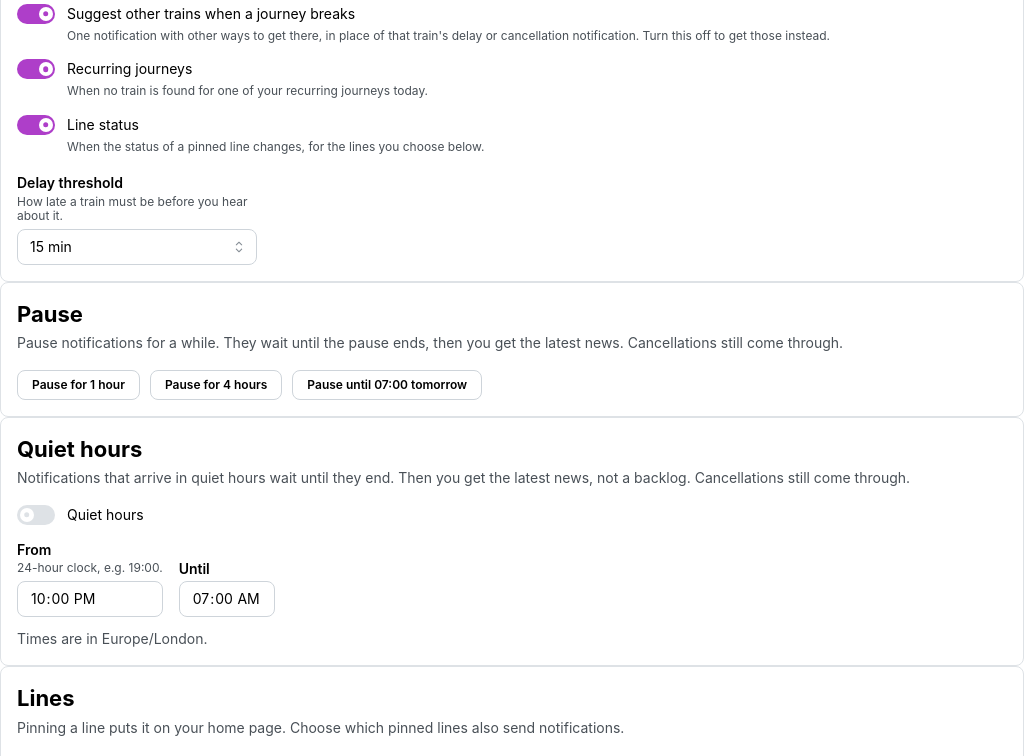
Test: NotificationSettings › pauses notifications and resumes them
(page scrolled)
Click the button "Pause for 1 hour" at coordinates (78, 385), box [17,370,140,400]
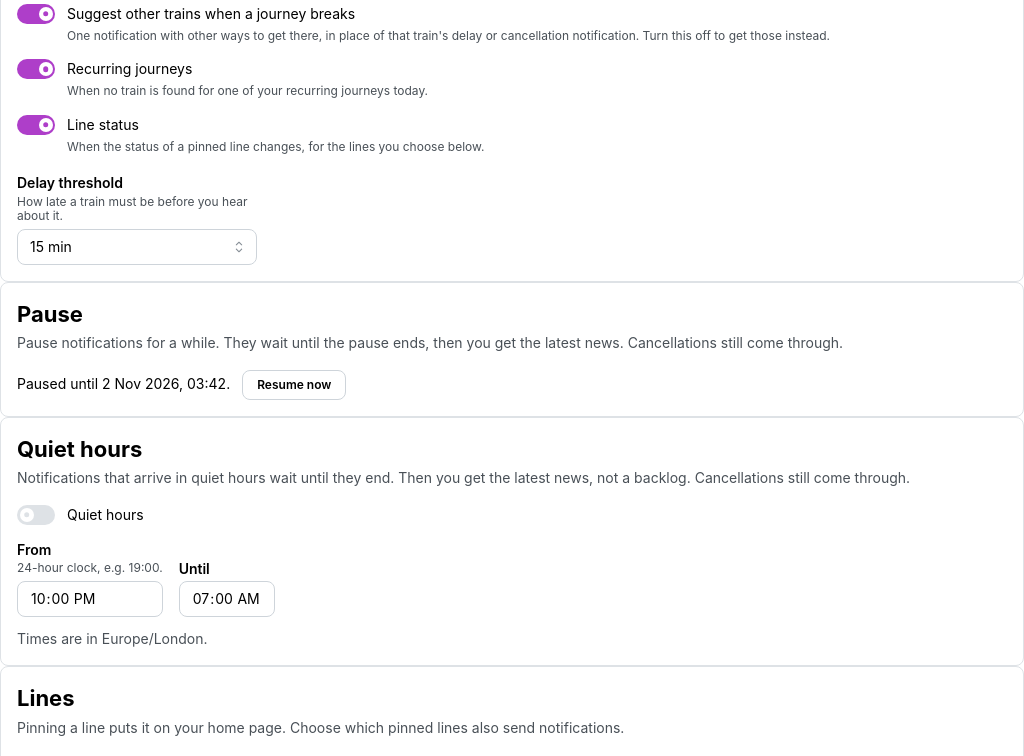
Result: the text "Paused until 2 Nov 2026, 03:42." is shown at [17,374,230,395]
Click the button "Resume now" at coordinates (294, 385), box [242,370,346,400]
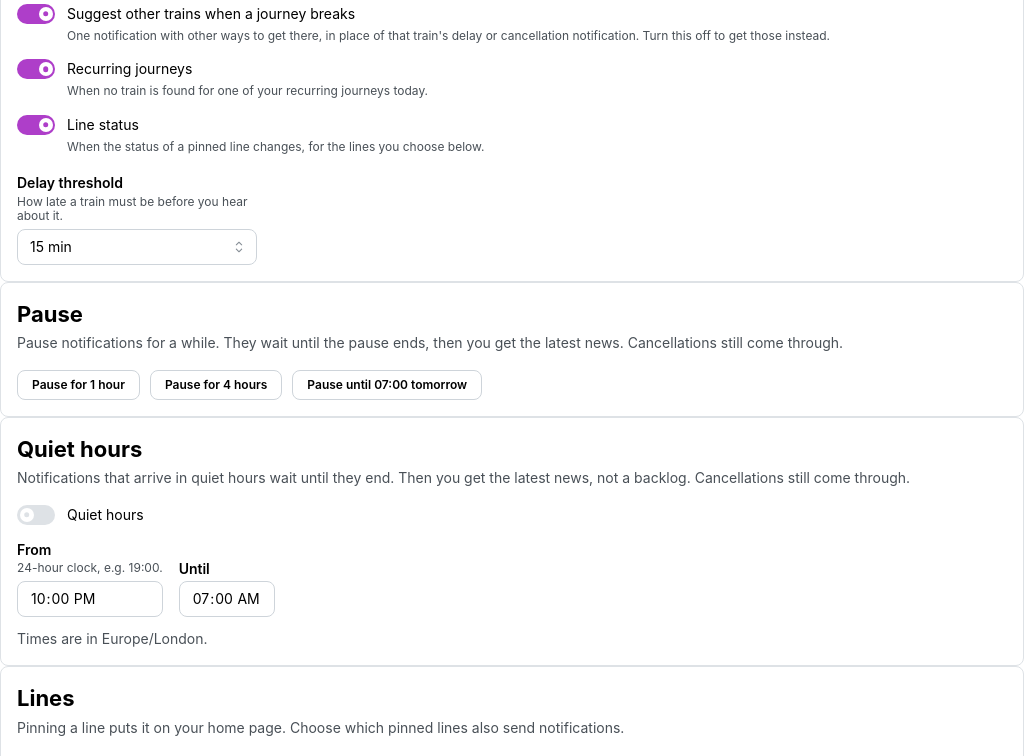
Result: the button "Pause for 4 hours" is shown at [150,370,282,400]
